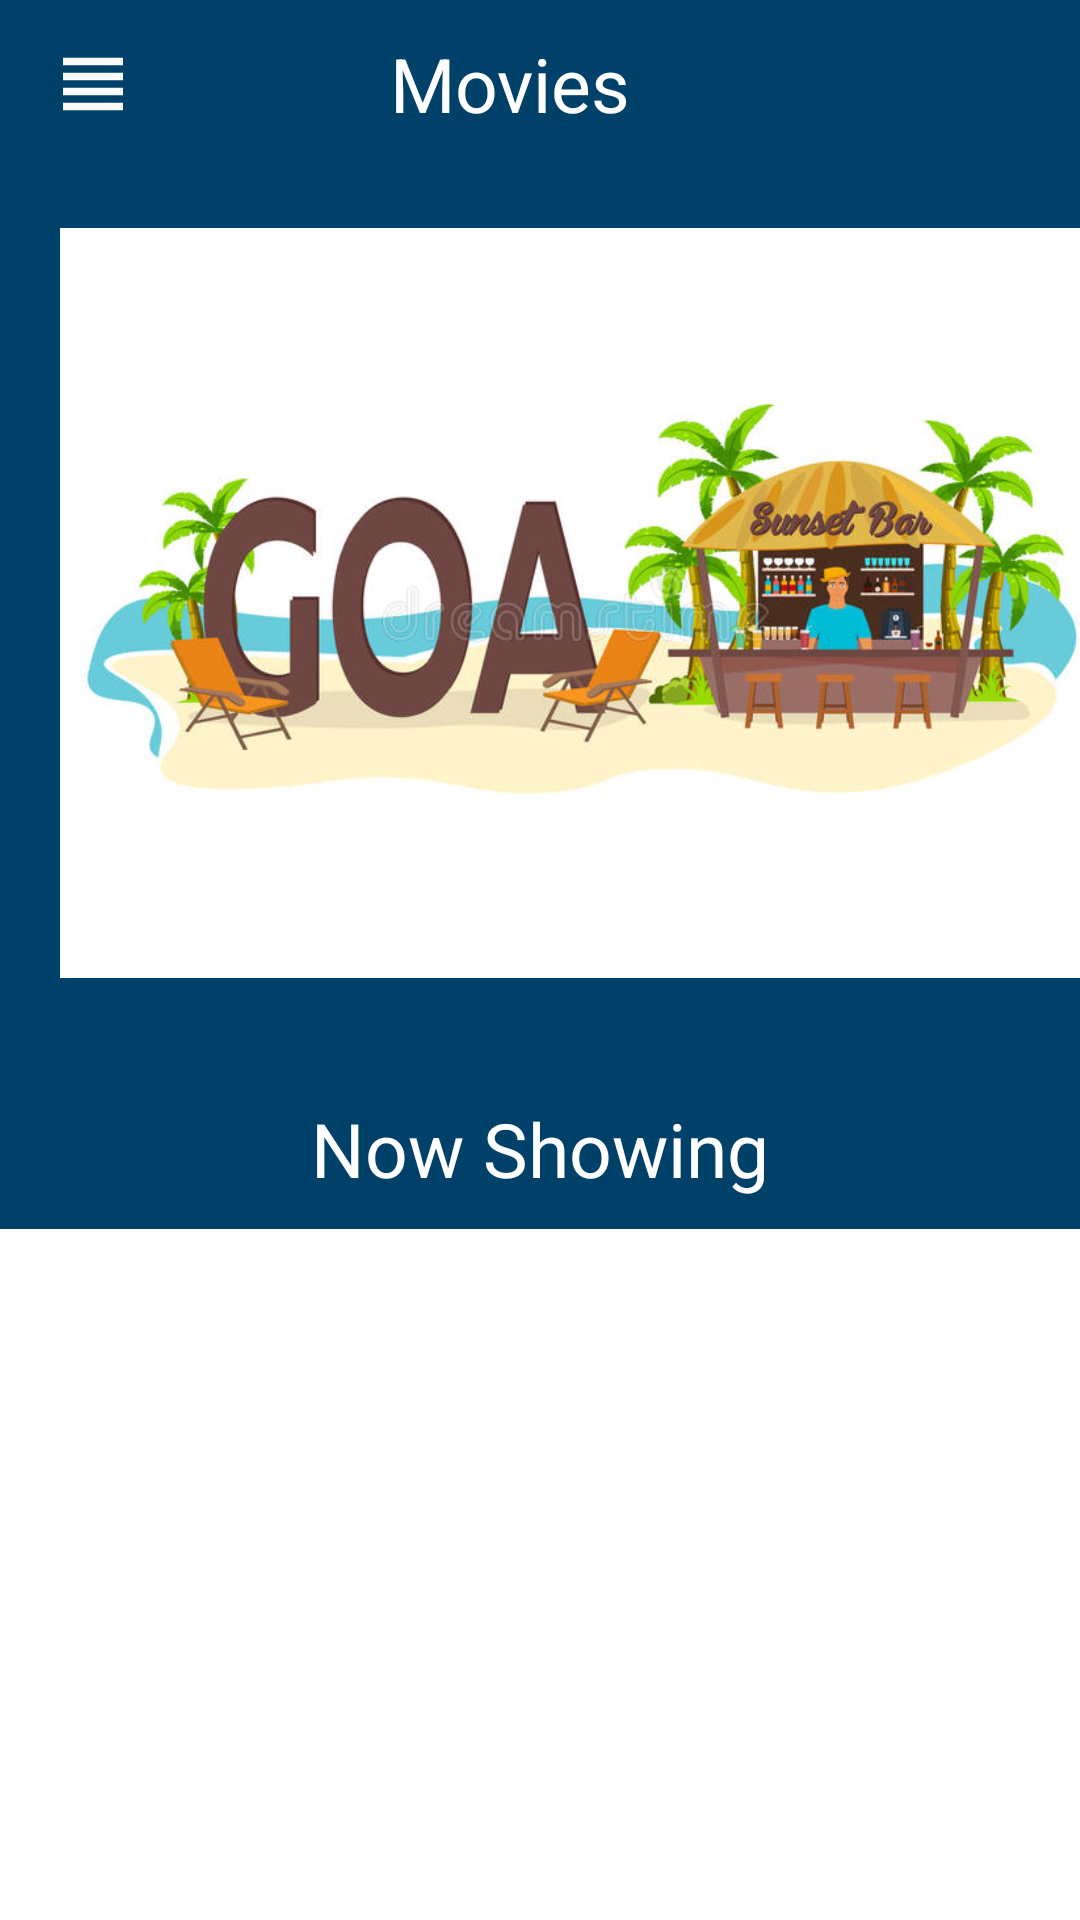

Icons on this 1080w x 1920h Android screen, each with its box as (x1, y1, x2, y2):
view headline: (63, 57, 123, 111)
